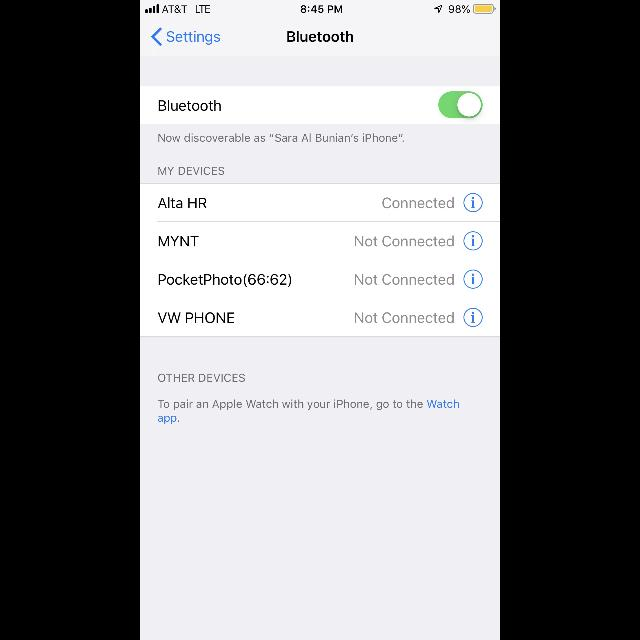icon: (463, 308, 482, 326), (463, 270, 482, 288), (463, 232, 482, 250), (463, 194, 482, 212), (152, 28, 162, 46)
switch: (438, 92, 482, 118)
text: (158, 400, 458, 424), (158, 134, 404, 142), (158, 274, 292, 286), (354, 312, 454, 324), (354, 236, 454, 247), (354, 274, 454, 284), (158, 312, 234, 324), (159, 100, 221, 112), (168, 31, 220, 45), (382, 198, 453, 208), (158, 374, 245, 382), (287, 32, 353, 42), (158, 167, 224, 175), (158, 198, 206, 208), (159, 236, 199, 246)
uppertaskbar: (140, 0, 500, 14)
